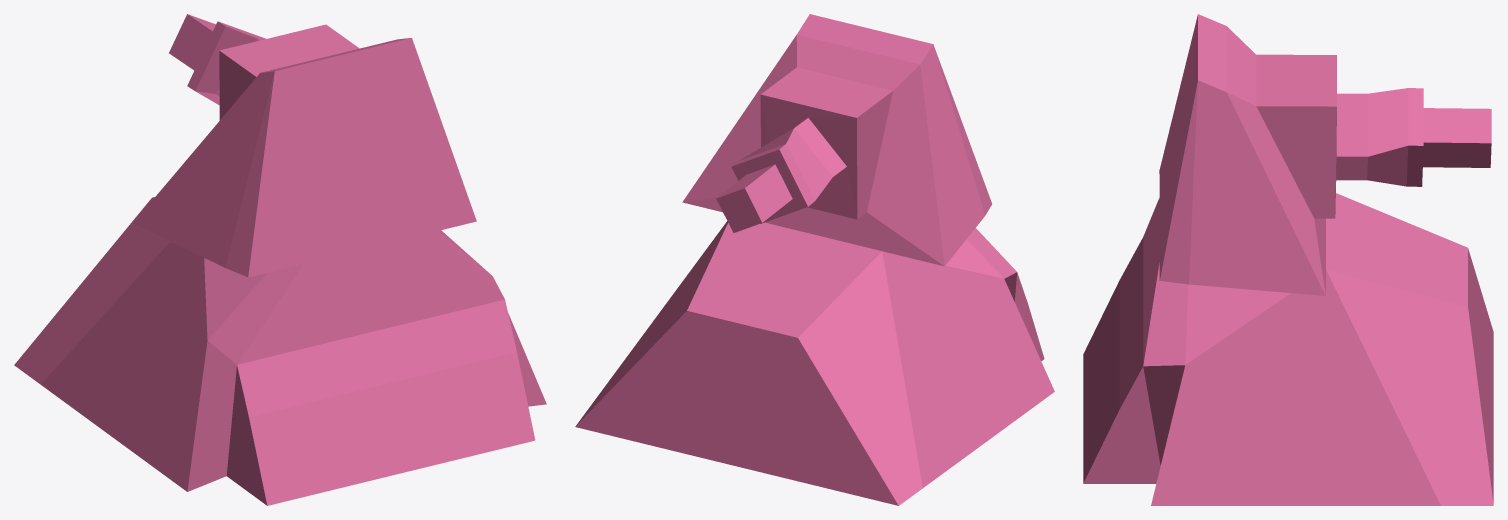
Rendered from Long Range.fbx.
3 views of the same model, side by side, from view 1: azimuth 30°, elevation 25°; view 2: azimuth 150°, elevation 25°; view 3: azimuth 270°, elevation 25° (orthographic). The views are drawn at different scales.
Parts seen in each view (by area): view 1: Long Range (×2); view 2: Long Range (×2); view 3: Long Range (×2).
Boxes of the visible parts, box(x1,y1,x2,y2) form: Long Range (×2): box(14, 14, 546, 505); Long Range (×2): box(575, 14, 1054, 505); Long Range (×2): box(1083, 14, 1493, 505).
Size of the model in its own units: 4000 by 4000 by 4000.
